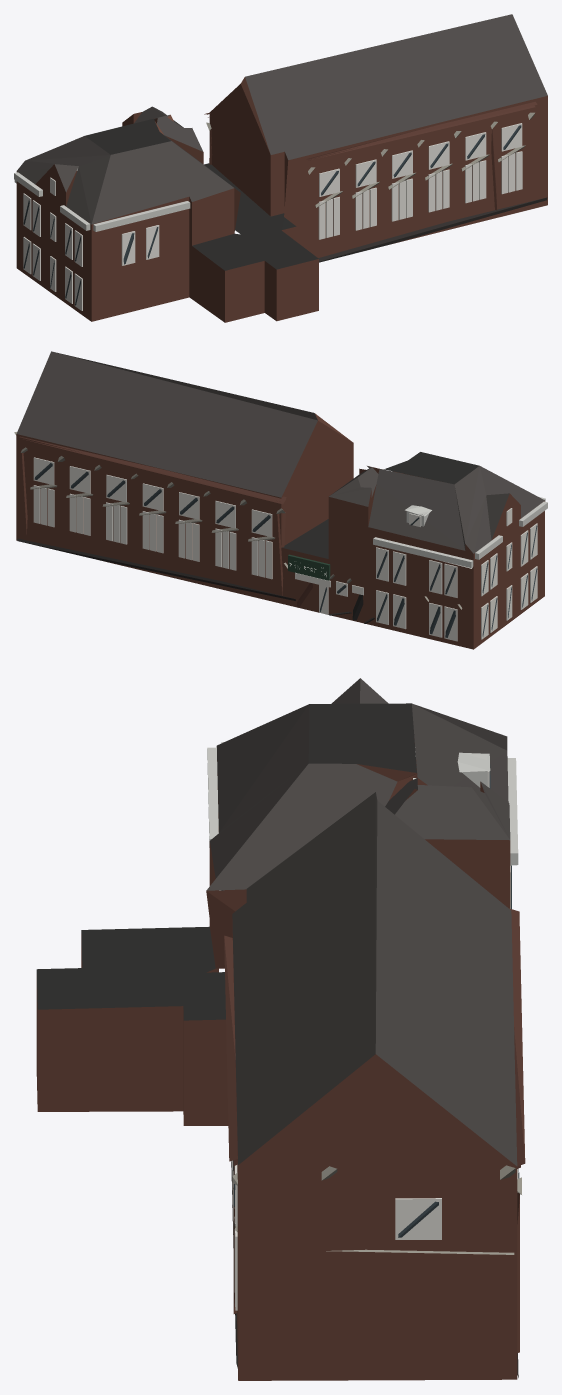
Rendered from rioolgemaal-zeeburgerdijk.lod1.glb.
3 views of the same model, one above another, from view 1: azimuth 30°, elevation 25°; view 2: azimuth 150°, elevation 25°; view 3: azimuth 270°, elevation 25° (orthographic). The views are drawn at different scales.
Visible parts, largest first — view 1: rioolgemaal-zeeburgerdijk; view 2: rioolgemaal-zeeburgerdijk; view 3: rioolgemaal-zeeburgerdijk.
Part boxes in pixels (left/top/right/bottom): rioolgemaal-zeeburgerdijk: left=14, top=14, right=547, bottom=322; rioolgemaal-zeeburgerdijk: left=14, top=351, right=547, bottom=649; rioolgemaal-zeeburgerdijk: left=36, top=678, right=525, bottom=1380.
Size of the model in its own units: 40.74 by 13.96 by 18.64.
